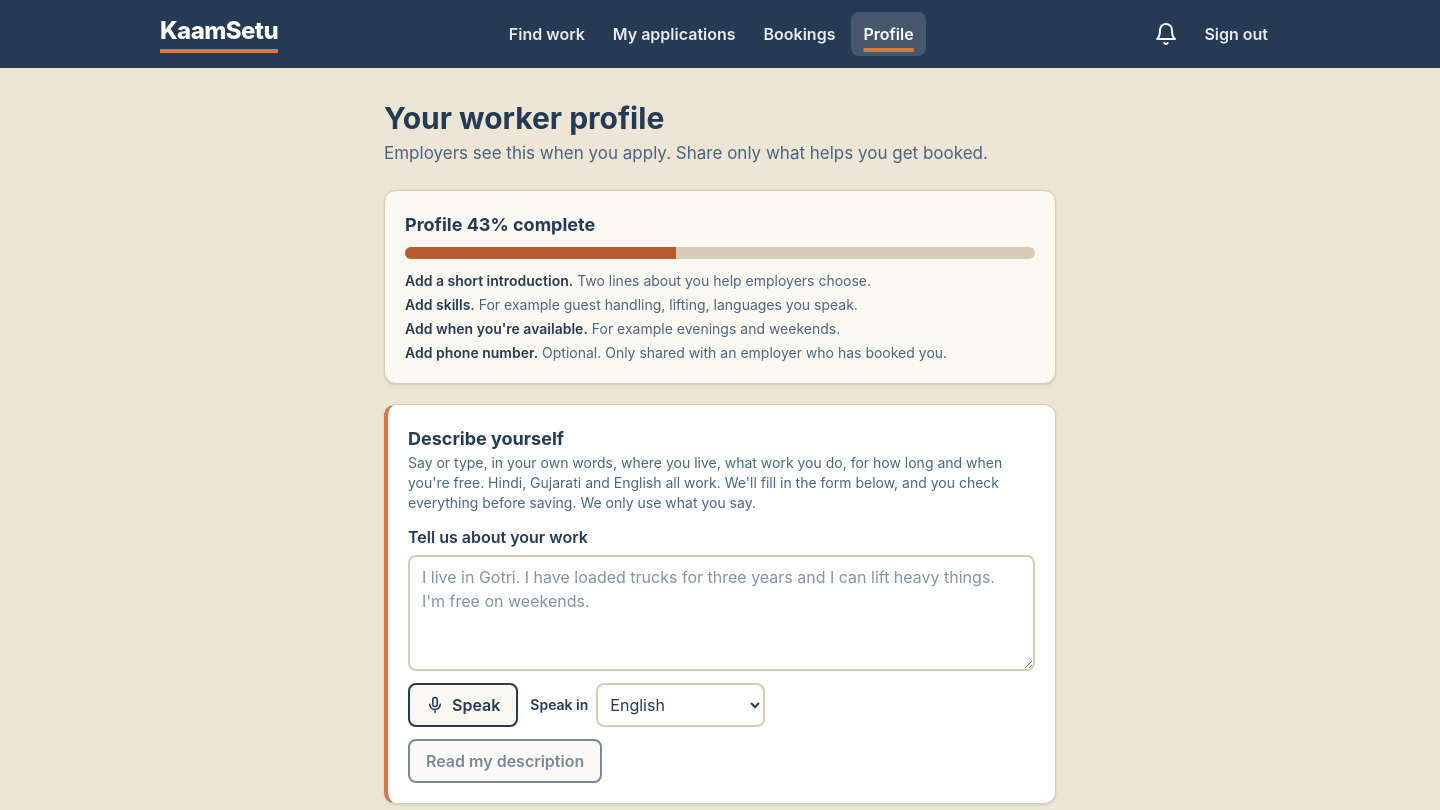
worker profile: Describe yourself › never invents: fields the worker didn't mention stay exactly as they were
Type "I am free in the evenings." into the text box labelled "Tell us about your work" at (722, 613), box [408, 555, 1035, 671]
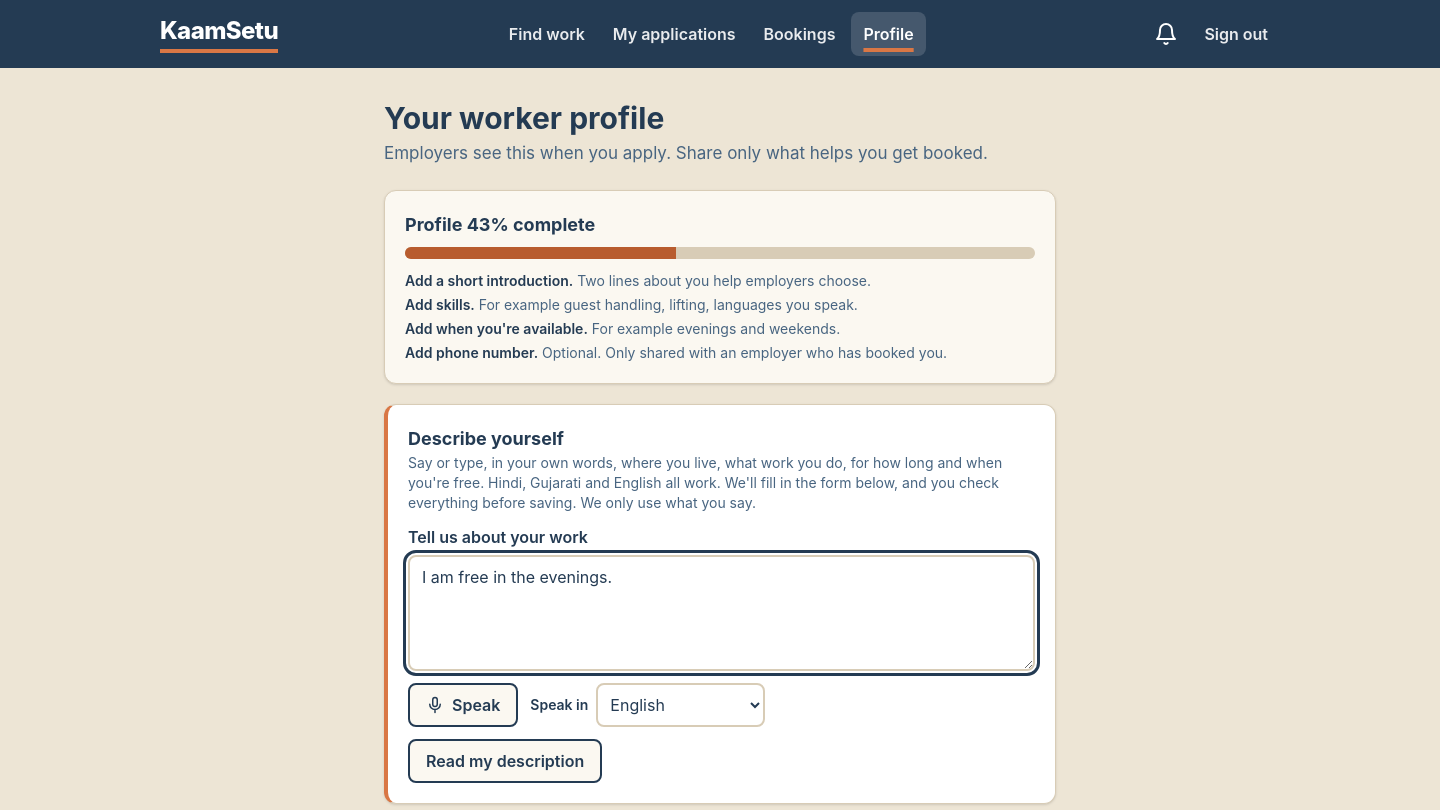
Click the button "Read my description" at (505, 761), box [408, 739, 602, 783]
(page scrolled)
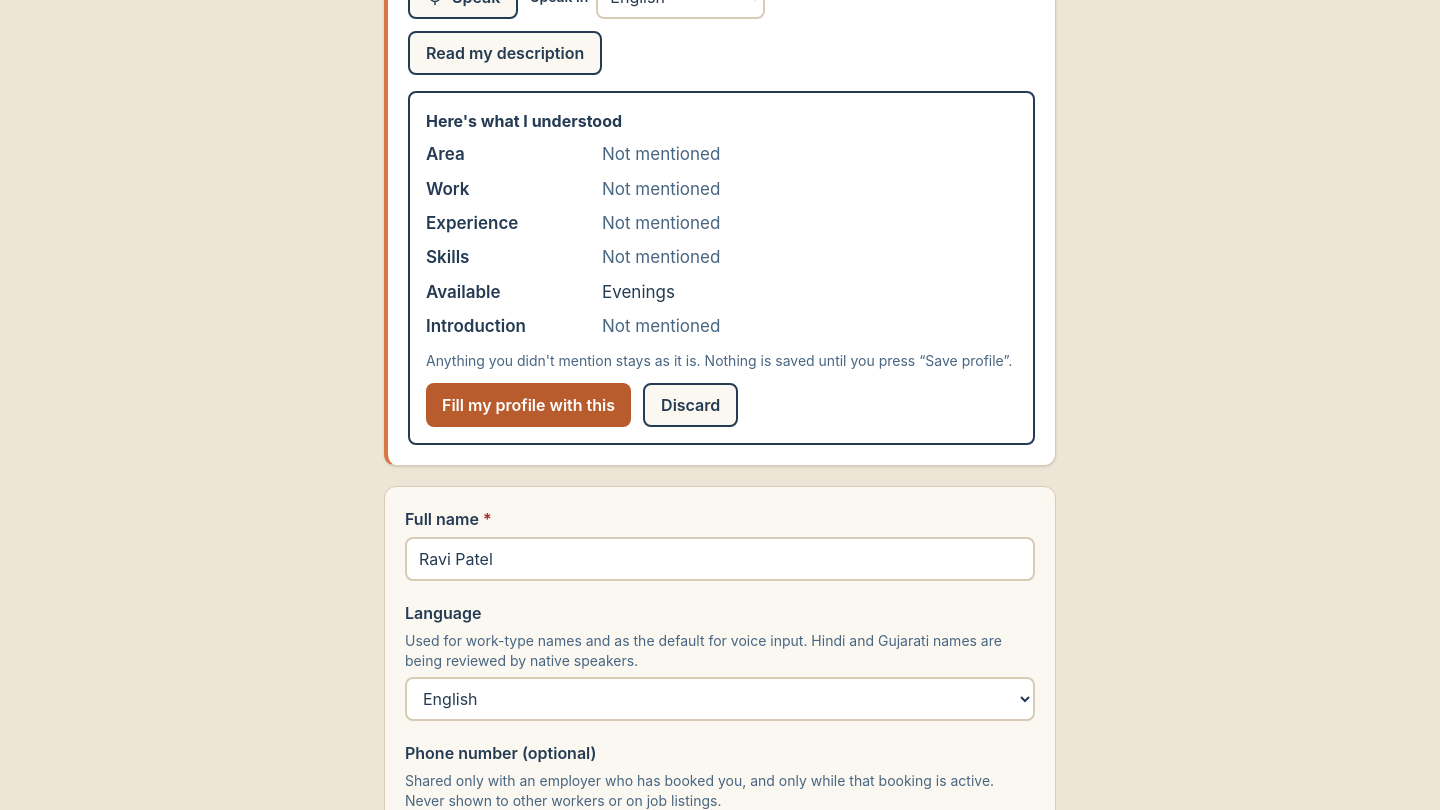
Click the button "Fill my profile with this" at (529, 405), box [426, 383, 631, 427]
(page scrolled)
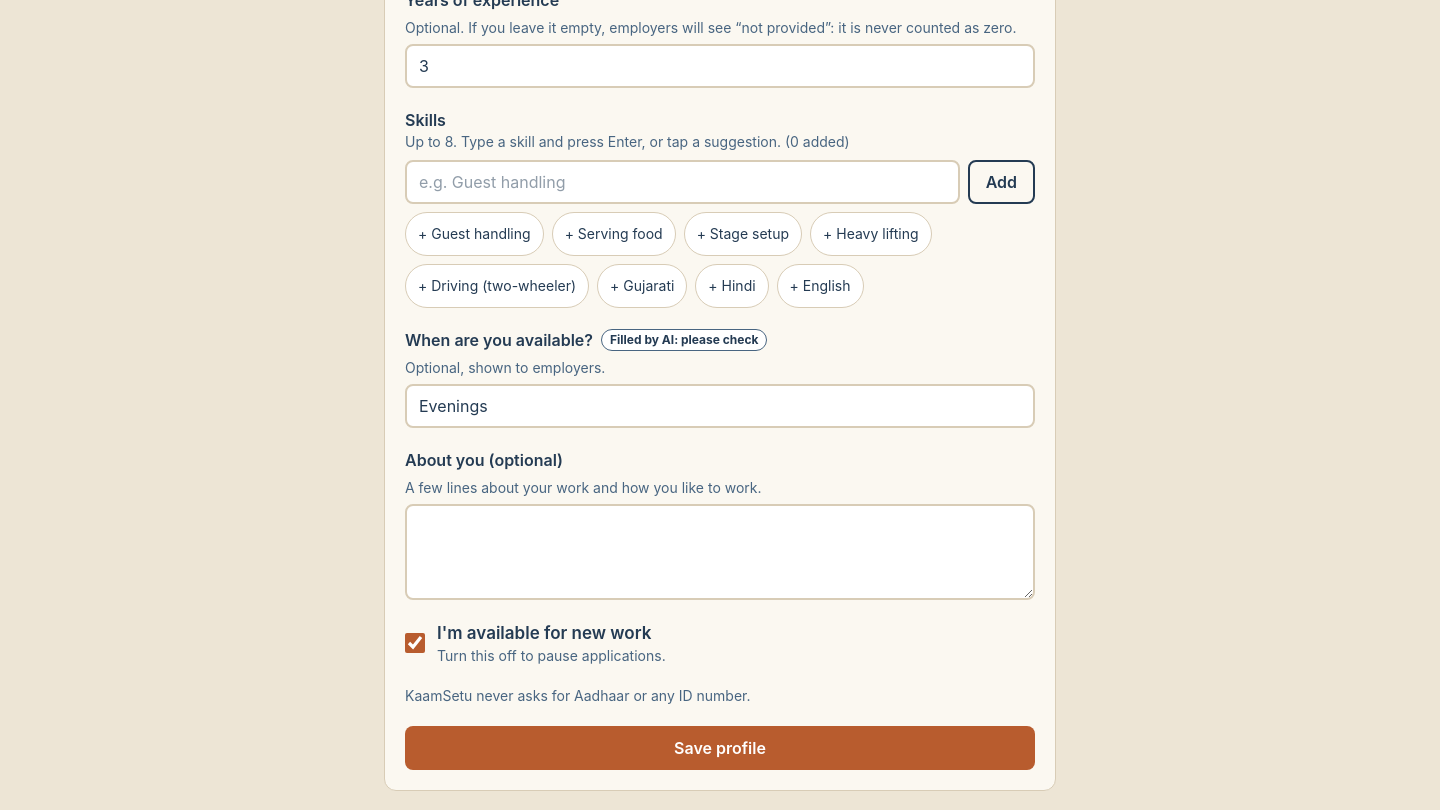
Check: the number field labelled "Years of experience" holds "3", box [405, 44, 1035, 88]
Check: the field labelled "When are you available?" holds "Evenings", box [405, 384, 1035, 428]
